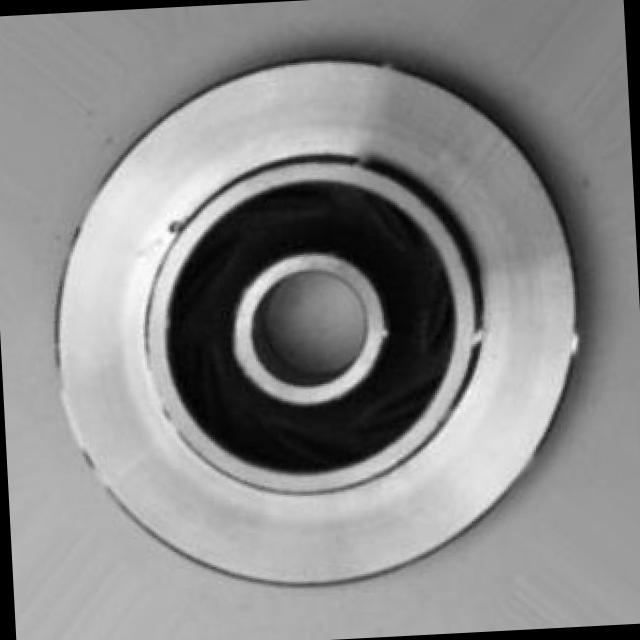Defect: (162, 215, 188, 238)
